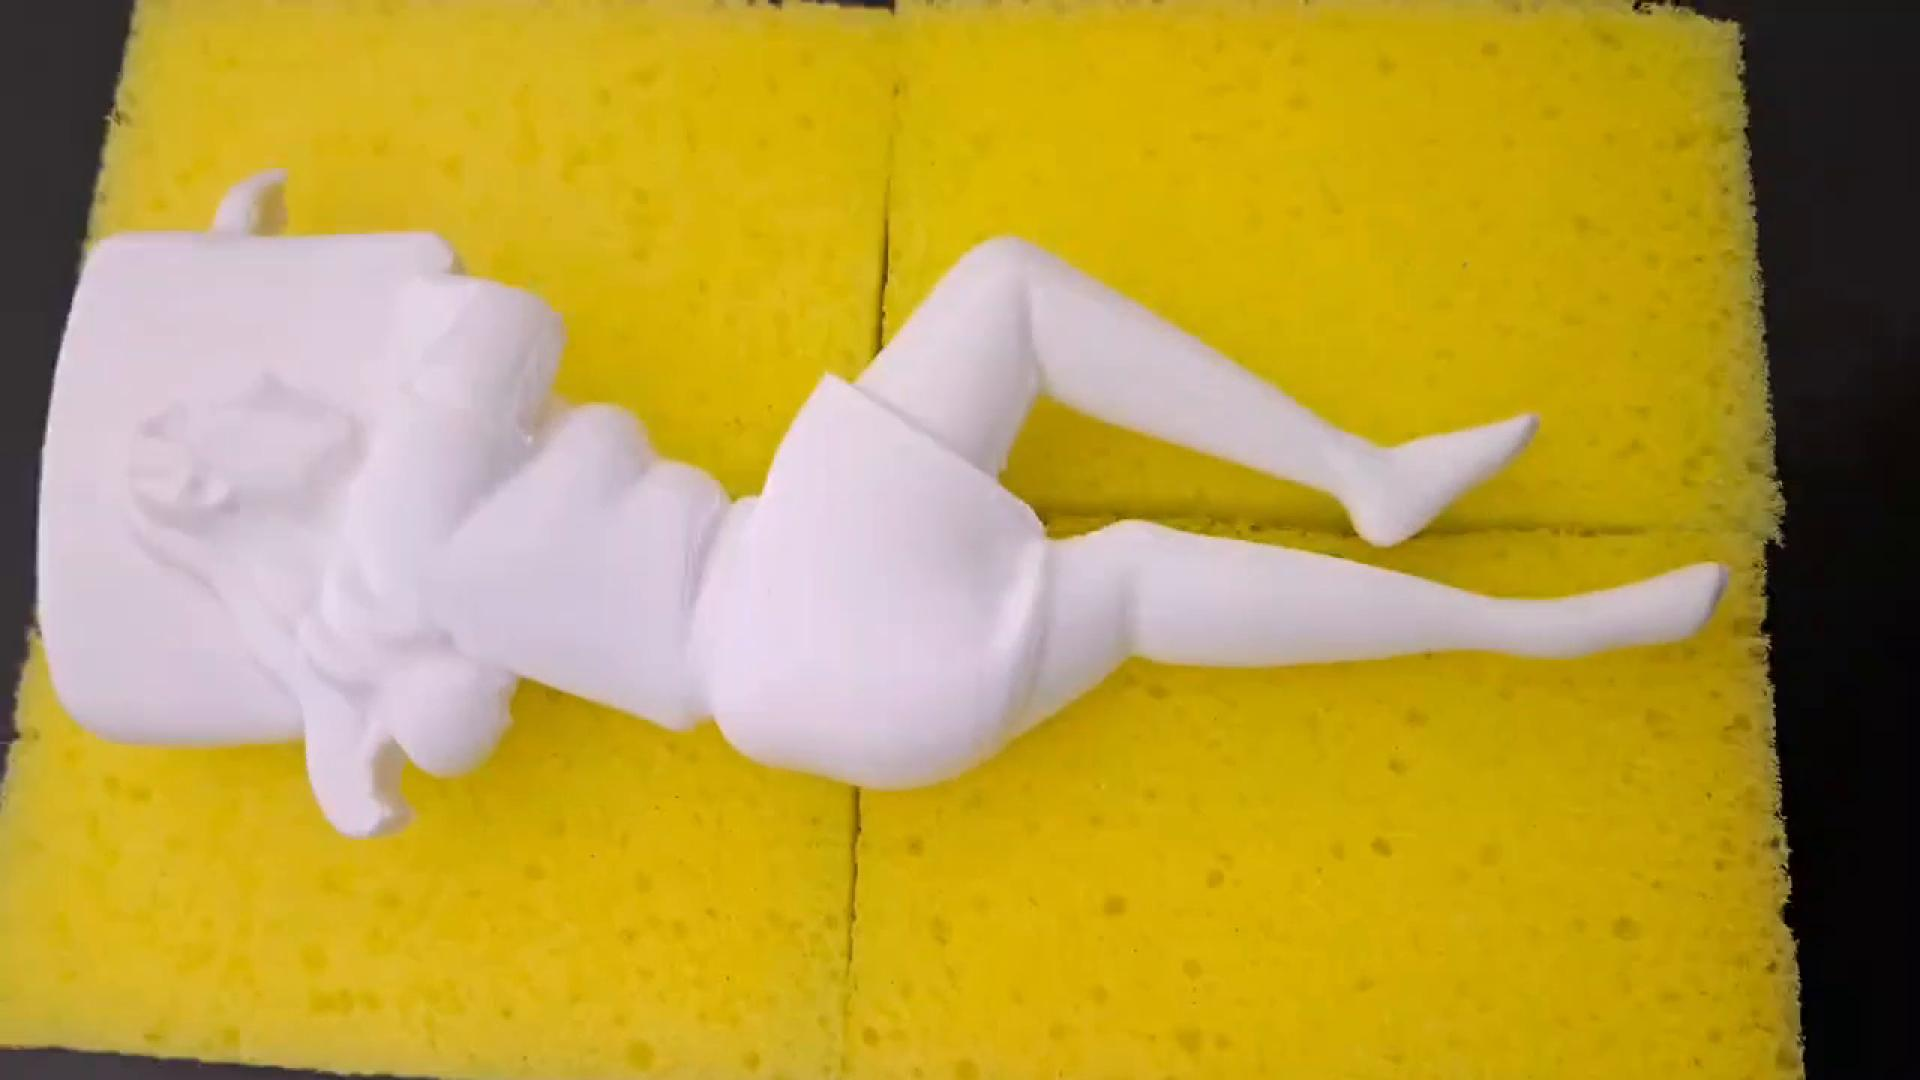Good-style: (36, 175, 1725, 847)
